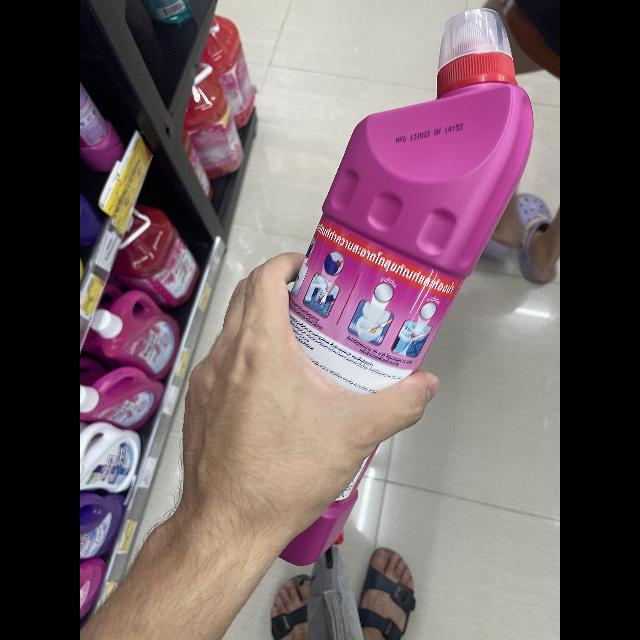chemical_plastic_bottle: (279, 0, 536, 582)
